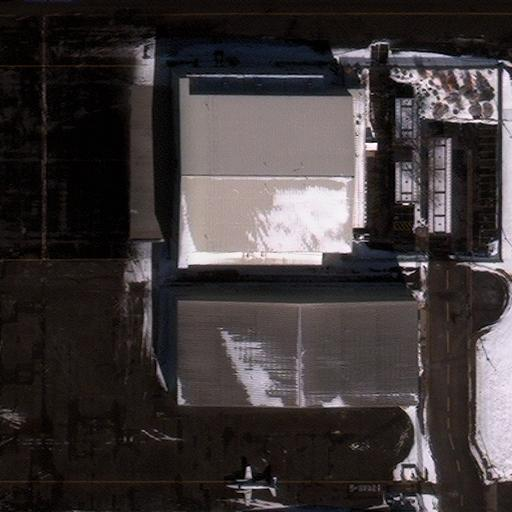Small Civil Transport: (226, 466, 277, 506)
